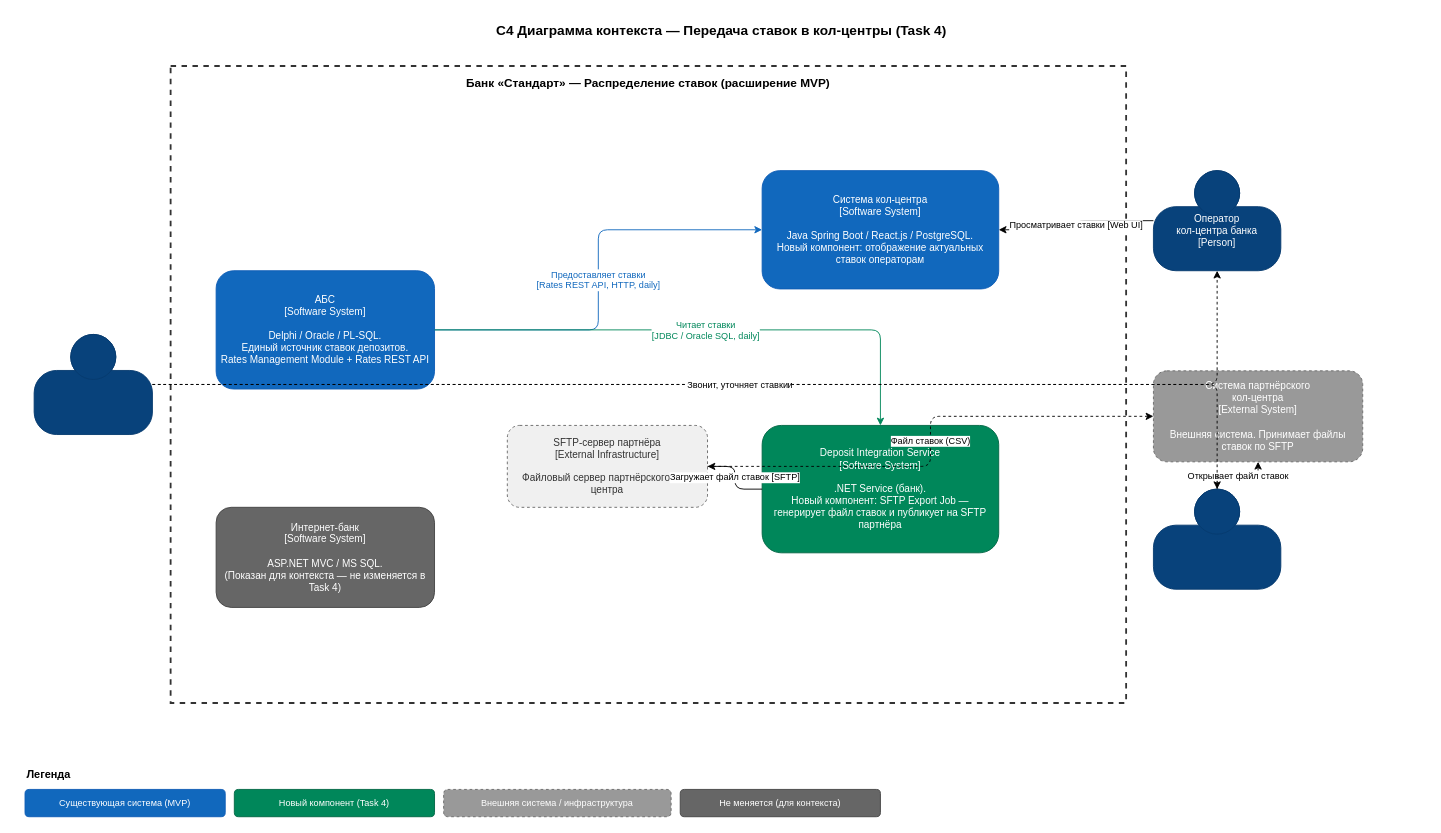
This 1441x833 diagram has some shape labels left out. The centre of each missing label's shape, as x and y in pixels:
Клиент банка [Person]: [92,384]
Оператор партнёрского КЦ [Person]: [1217,538]
